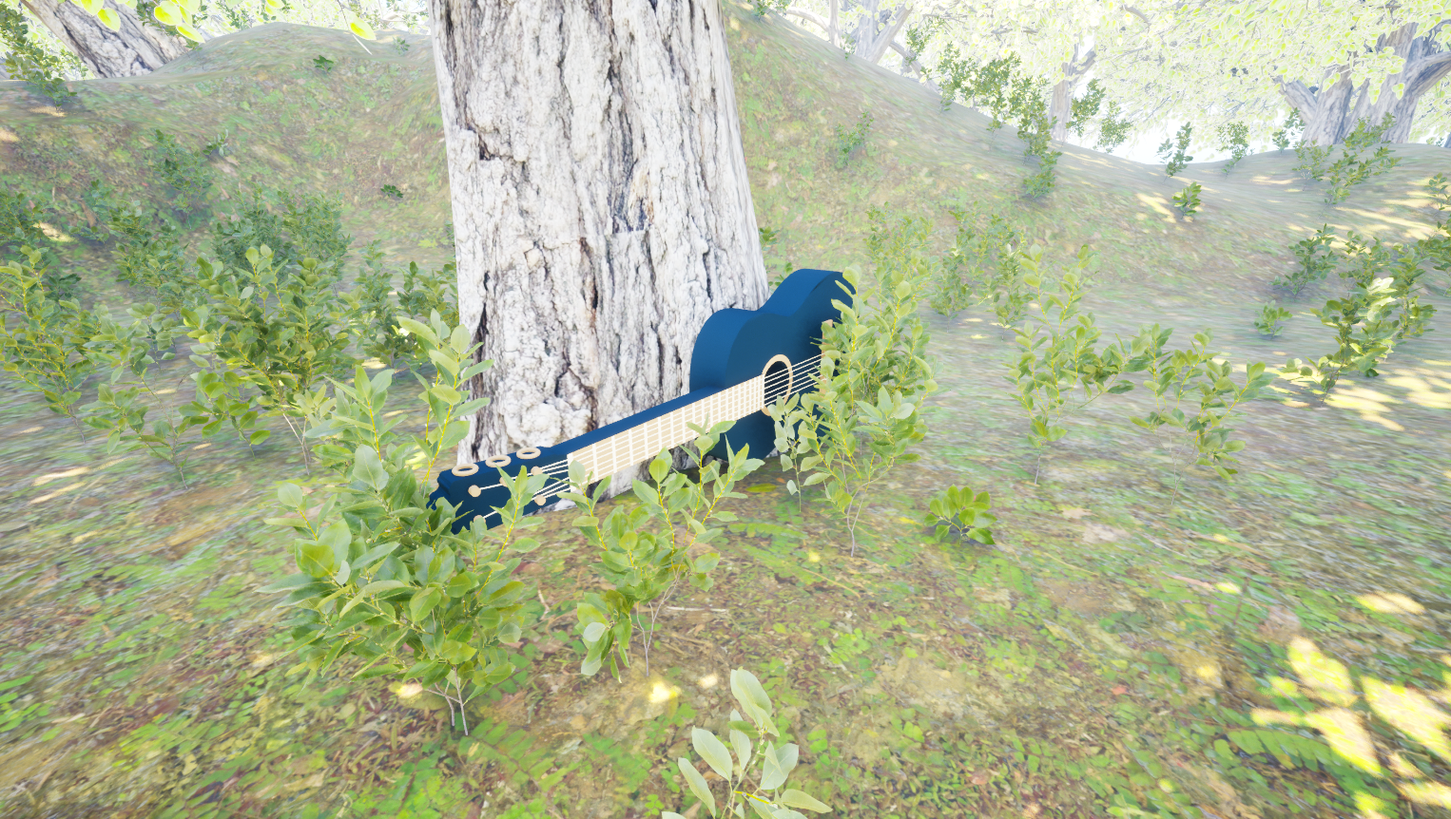Guitar: (381, 263, 868, 667)
